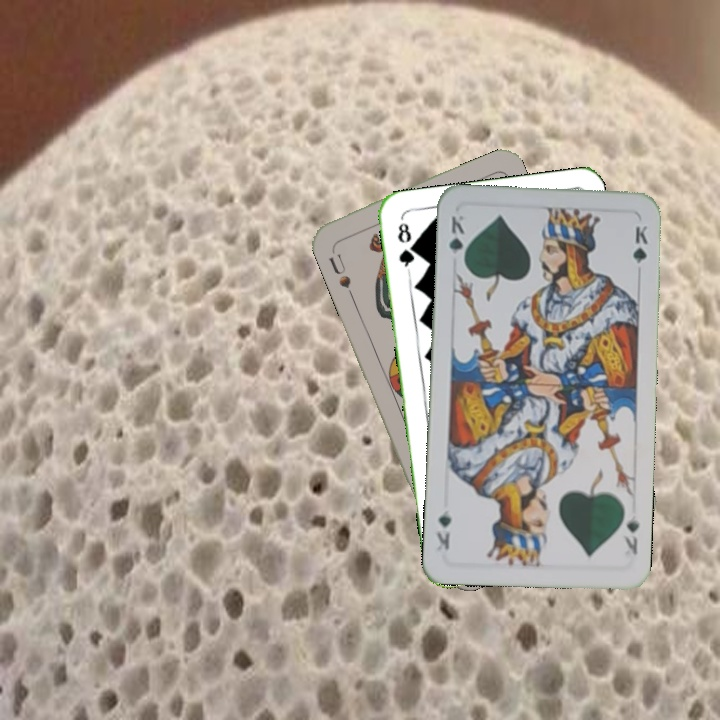G8: (393, 218, 417, 275)
GK: (444, 211, 468, 268), (619, 511, 642, 558)
SU: (324, 241, 354, 291)
